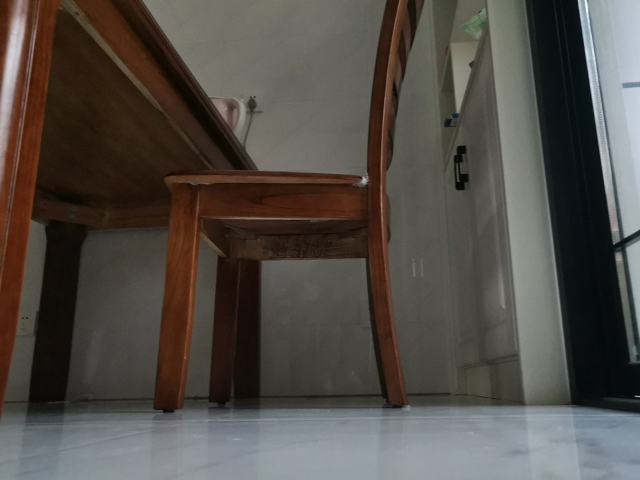cabinet: (435, 28, 572, 407)
stool: (153, 1, 427, 413)
table: (1, 1, 263, 424)
